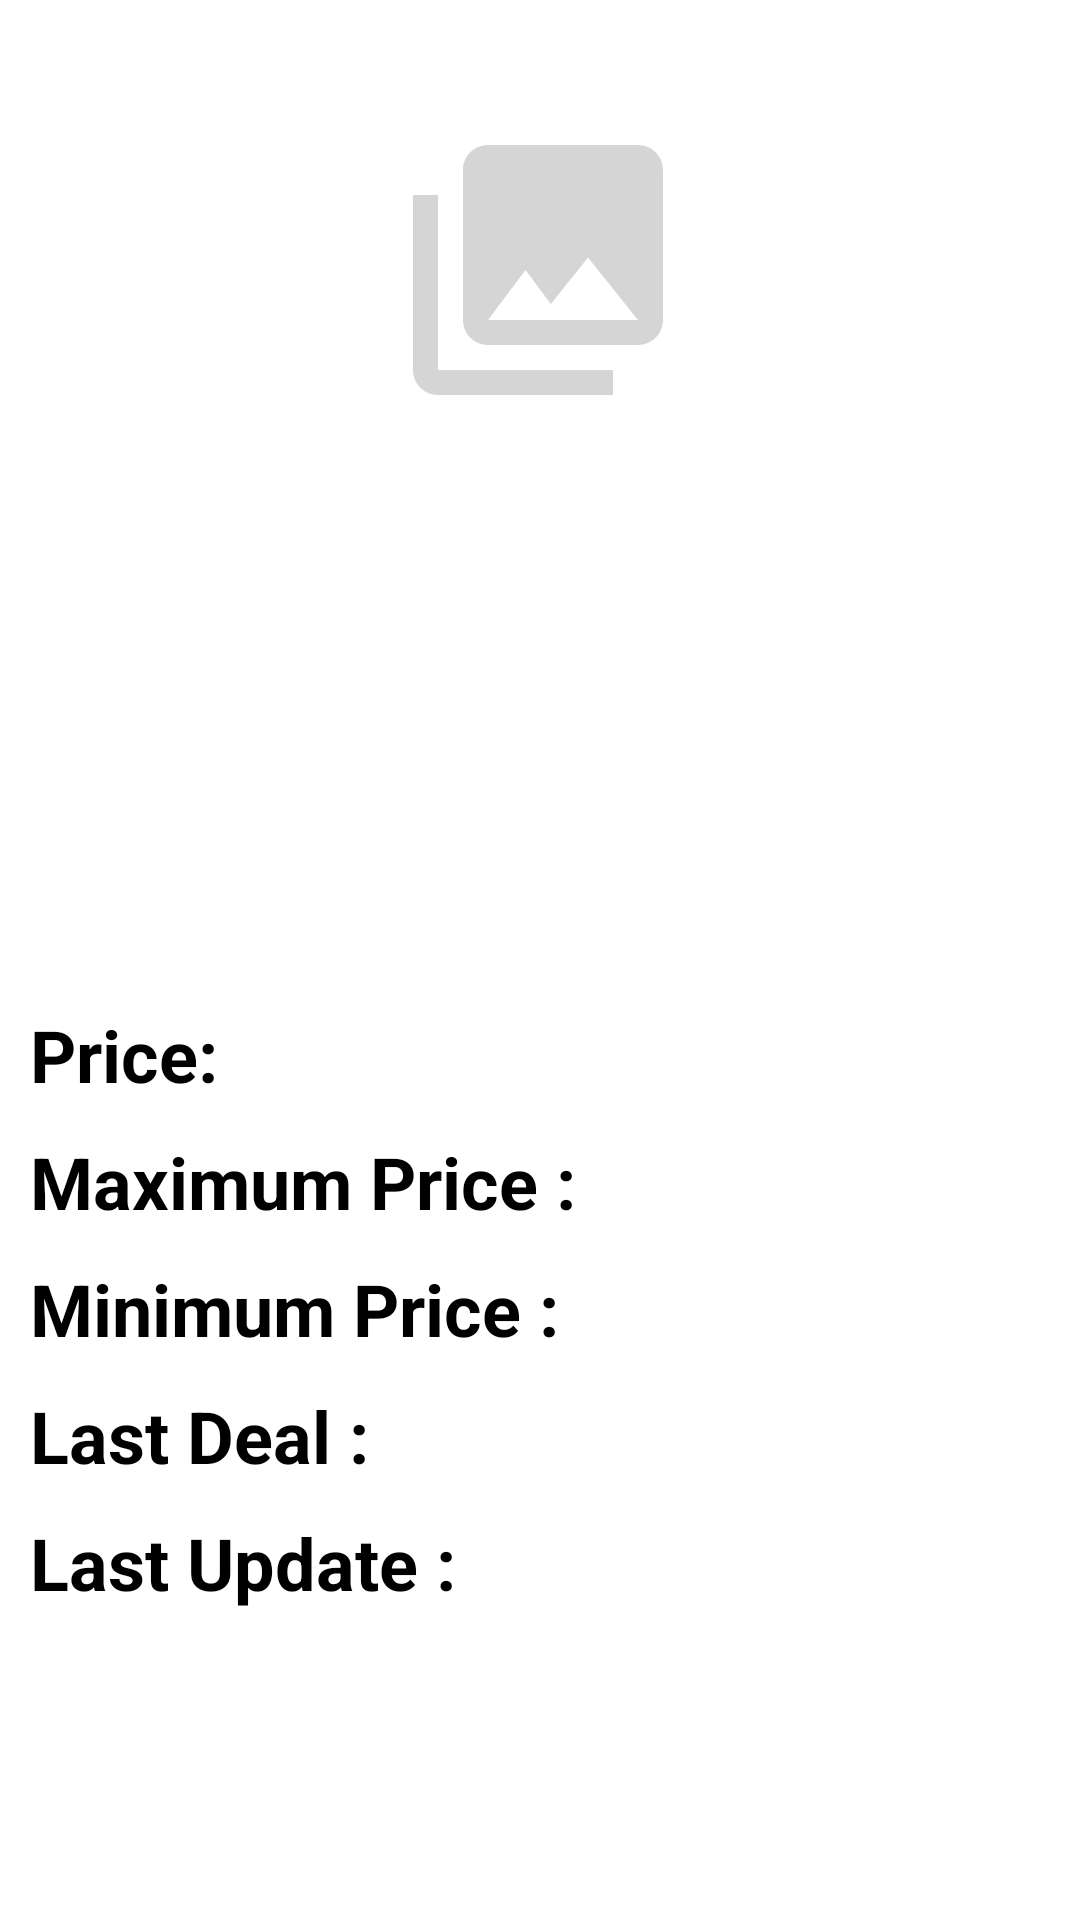

Screen size 1080px x 1920px. Icon name, then its box in pixels as (x1, y1, x2, y2):
photo: (413, 145, 663, 395)
